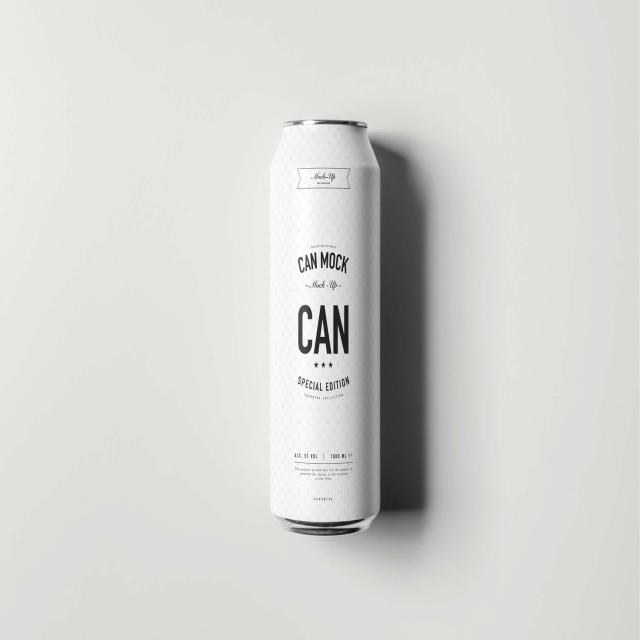can: (270, 120, 380, 534)
